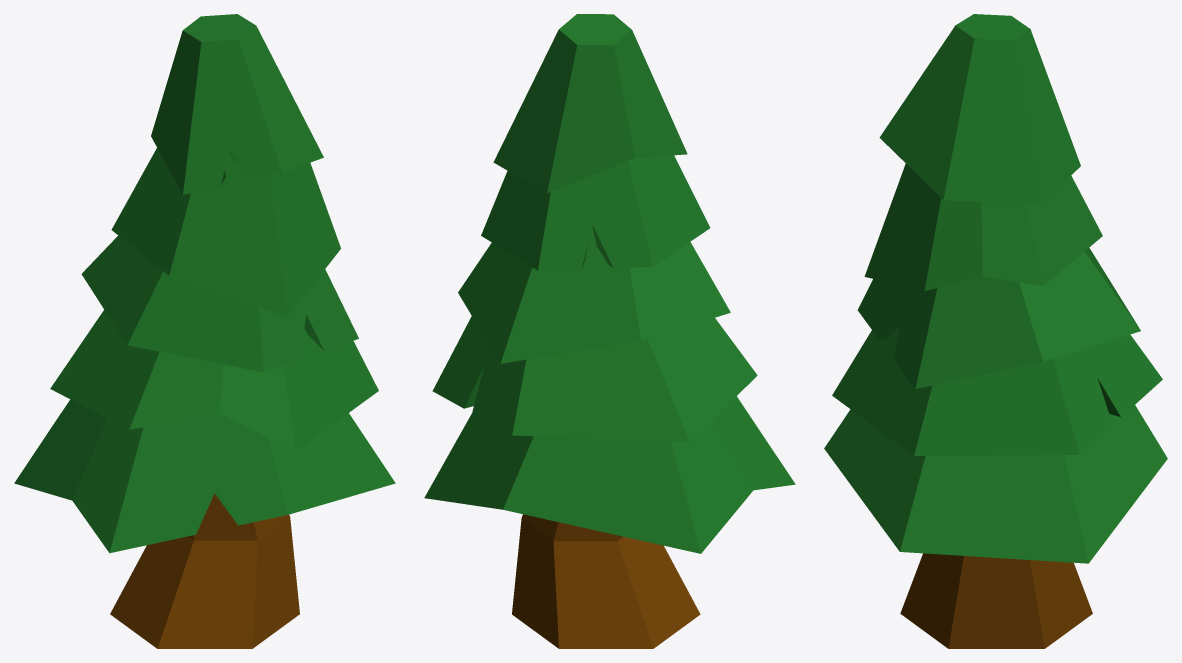
The model's file is albero_sfondo.glb.
The picture shows the model from 3 angles, left to right: view 1: azimuth 30°, elevation 25°; view 2: azimuth 150°, elevation 25°; view 3: azimuth 270°, elevation 25°; orthographic projection. The views are drawn at different scales.
Parts seen in each view (by area): view 1: Cylinder.001, Cylinder.004, Cylinder.002, Cylinder.005, Cylinder, Cylinder.003; view 2: Cylinder.001, Cylinder.002, Cylinder.003, Cylinder.005, Cylinder, Cylinder.004; view 3: Cylinder.001, Cylinder.005, Cylinder.002, Cylinder.003, Cylinder.004, Cylinder.
Part boxes in pixels (left/top/right/bottom): Cylinder.001: left=14, top=399, right=395, bottom=553; Cylinder.004: left=111, top=148, right=340, bottom=316; Cylinder.002: left=50, top=310, right=378, bottom=450; Cylinder.005: left=151, top=14, right=323, bottom=194; Cylinder: left=110, top=493, right=299, bottom=648; Cylinder.003: left=81, top=235, right=358, bottom=372; Cylinder.001: left=424, top=396, right=795, bottom=553; Cylinder.002: left=432, top=316, right=757, bottom=441; Cylinder.003: left=458, top=228, right=730, bottom=363; Cylinder.005: left=493, top=14, right=687, bottom=193; Cylinder: left=512, top=514, right=700, bottom=648; Cylinder.004: left=481, top=155, right=710, bottom=270; Cylinder.001: left=824, top=405, right=1167, bottom=563; Cylinder.005: left=879, top=14, right=1080, bottom=204; Cylinder.002: left=832, top=326, right=1162, bottom=455; Cylinder.003: left=857, top=247, right=1140, bottom=389; Cylinder.004: left=864, top=163, right=1102, bottom=291; Cylinder: left=900, top=553, right=1092, bottom=648.
Bounding box in the file's own units: 1.89 × 3.69 × 1.93.
